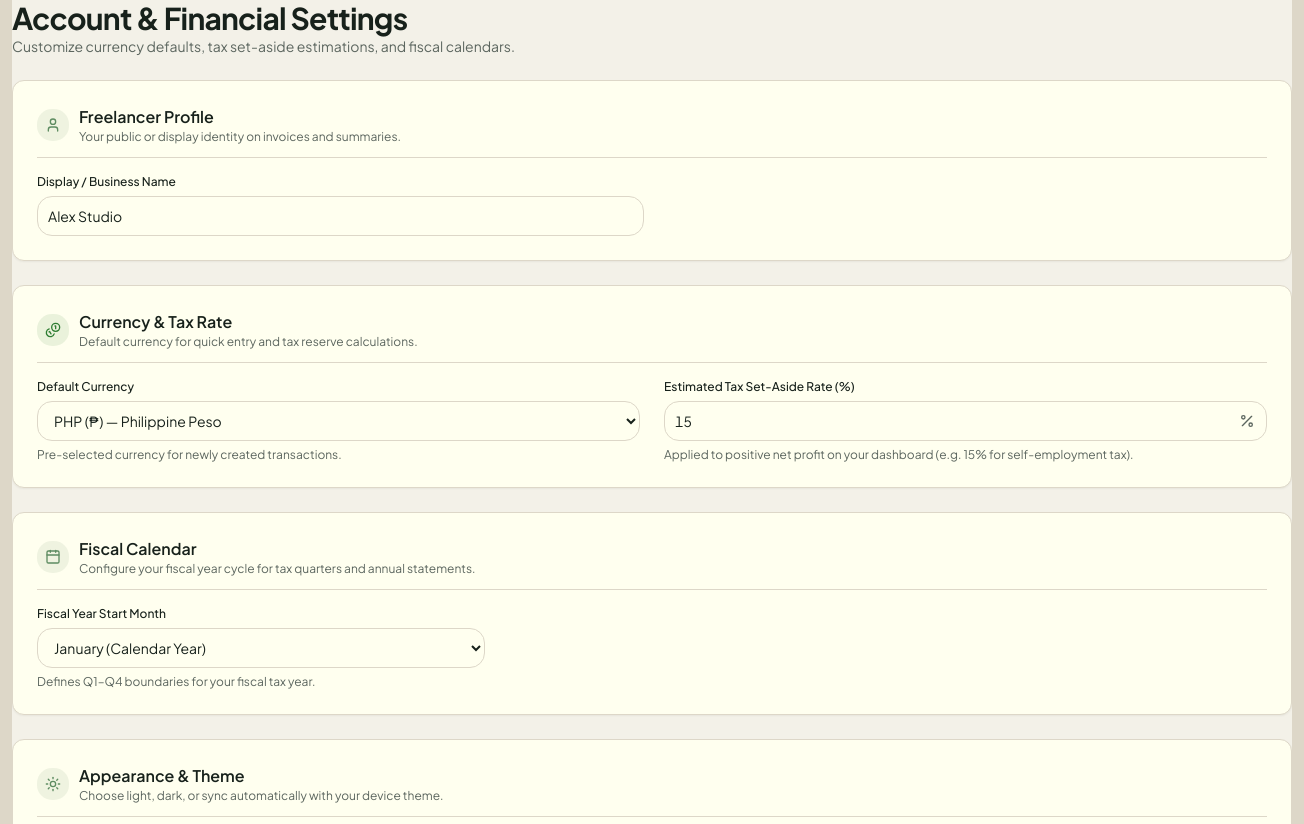
Scenario: SettingsManager Component › submits PATCH request converting percent to basis points
Step 1. Type "20" into the number field labelled "Estimated Tax Set-Aside Rate (%)" → (966, 421), box top-left (664, 401), bottom-right (1267, 441)
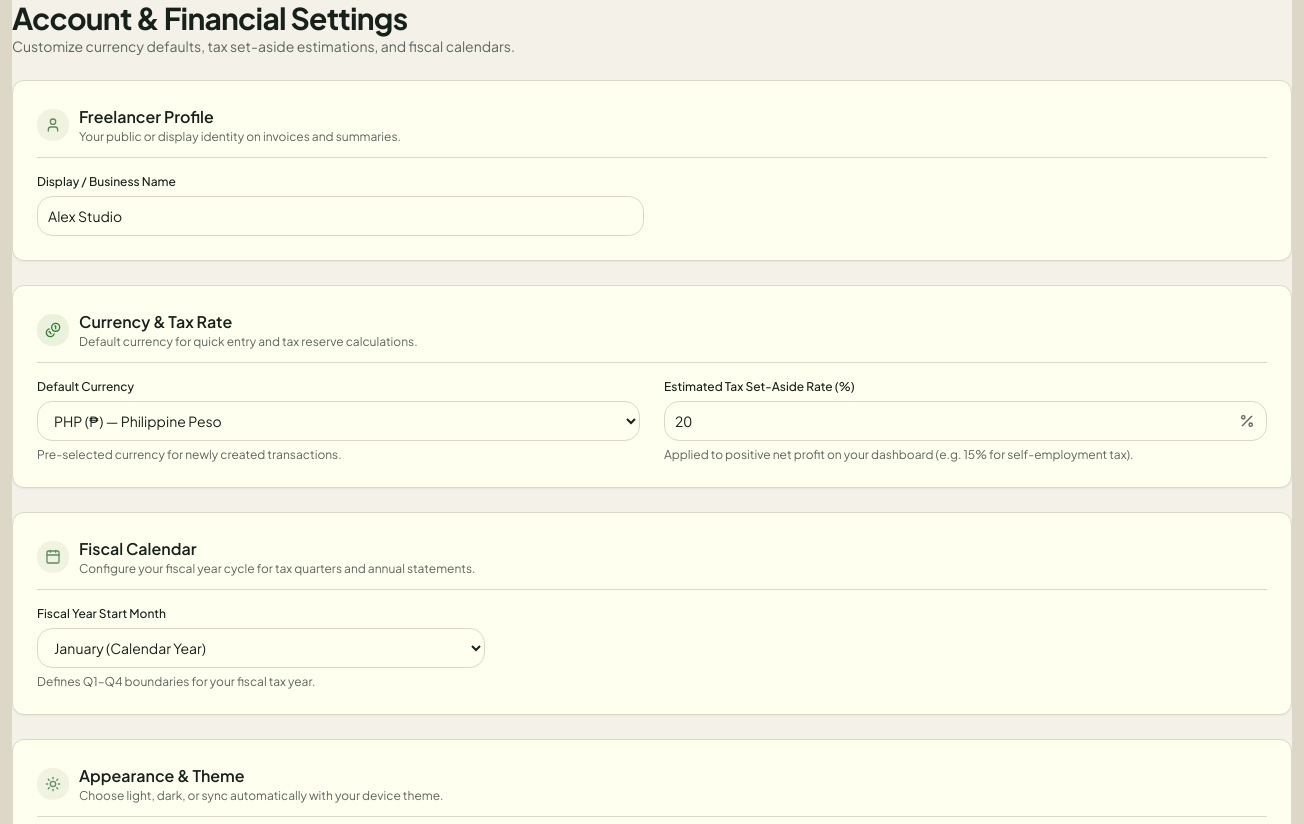
Step 2. Select "USD ($) — US Dollar" in the dropdown labelled "Default Currency" → (338, 421), box top-left (37, 401), bottom-right (640, 441)
(page scrolled)
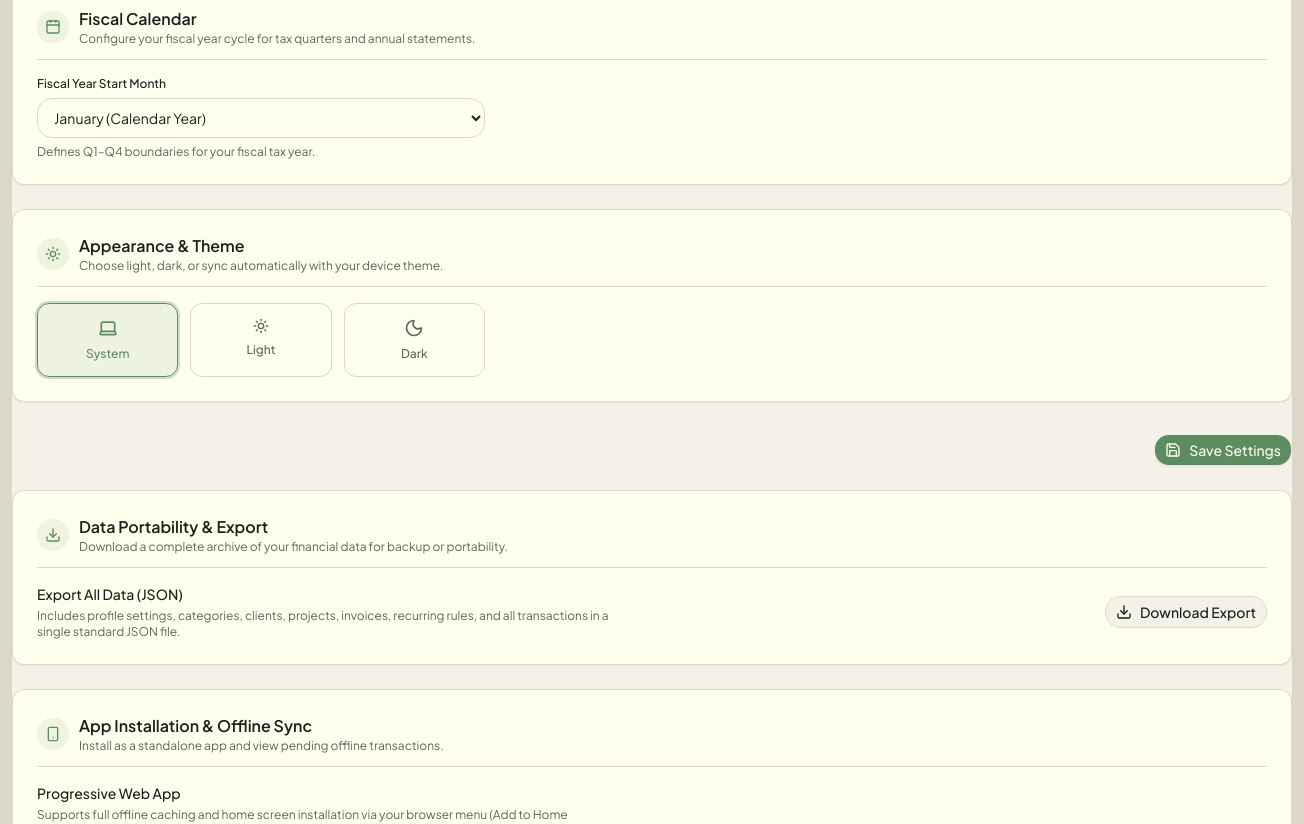
Step 3. Click the button "Save Settings" → (1223, 450), box top-left (1154, 434), bottom-right (1292, 466)
(page scrolled)
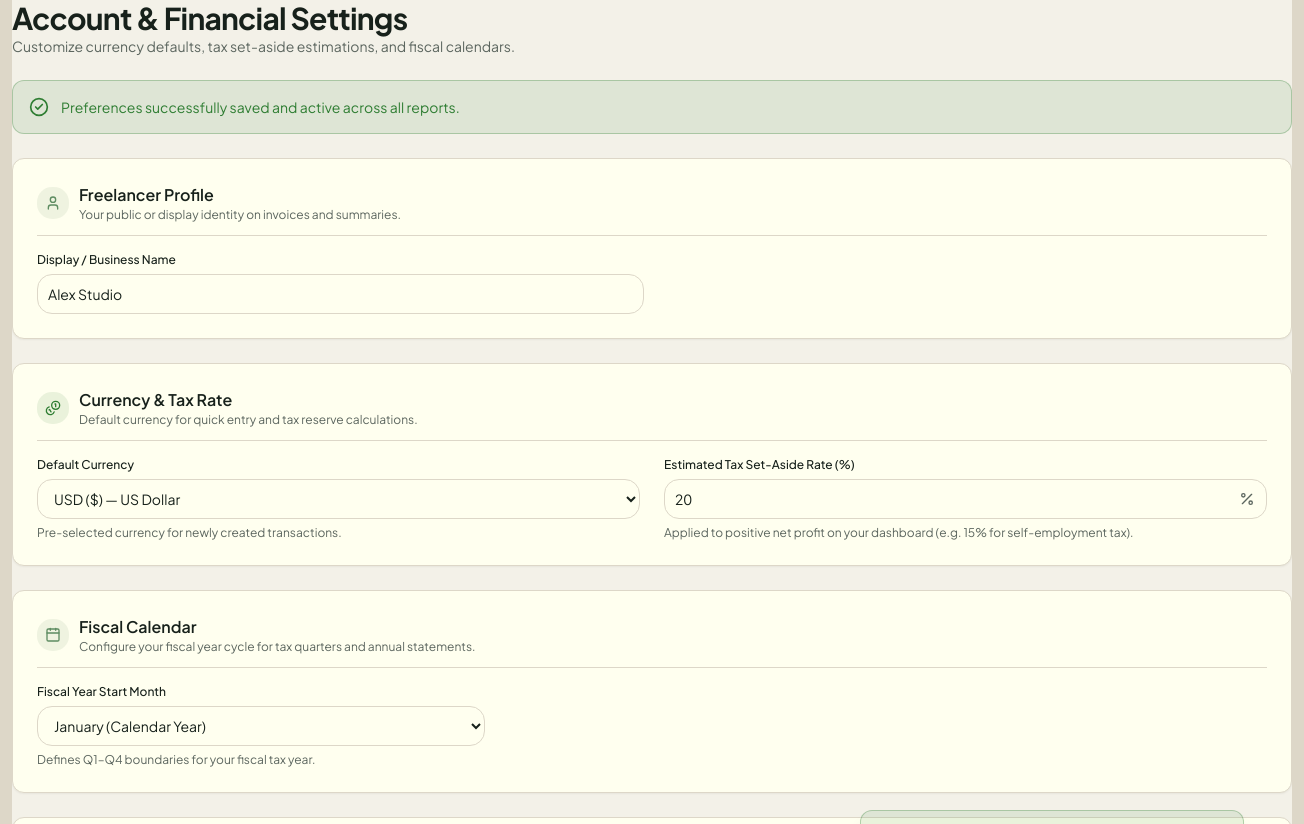
Result: the text "Preferences successfully saved" is shown at top-left (61, 98), bottom-right (460, 116)
